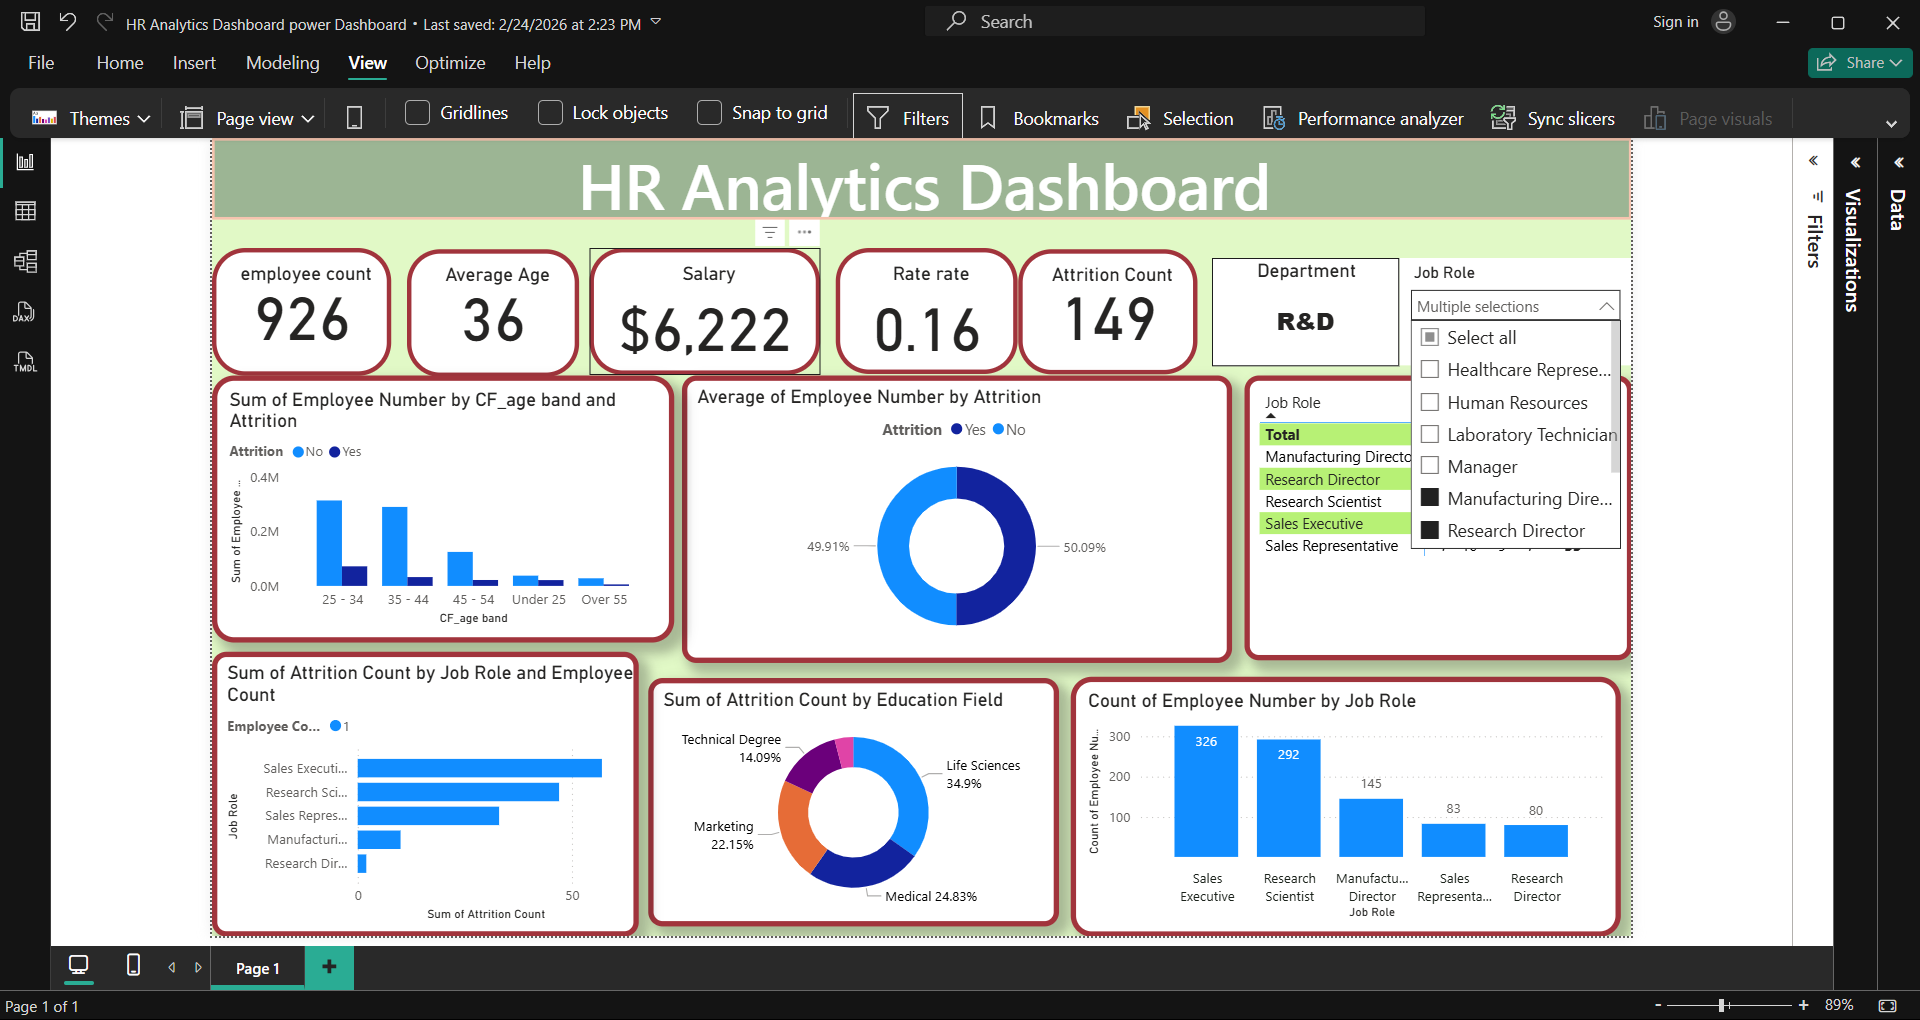

The dashboard page shown, as its layout file describes it:
{"tool":"powerbi","page":{"name":"Page 1","canvas":[1280,720],"ordinal":0},"visuals":[{"type":"card","title":"employee count","fields":{"Values":["Sum(HR data.Employee Count)"]},"box":[0,99,161.6,115.2],"z":0},{"type":"card","title":"Attrition Count","fields":{"Values":["HR data.Attrition Counts"]},"box":[726.6,100.2,161.6,112.7],"z":1000},{"type":"card","title":"Rate rate","fields":{"Values":["HR data.Attrition Rate"]},"box":[562.3,99.5,164.2,113.2],"z":2000},{"type":"card","title":"Average Age","fields":{"Values":["Avg(HR data.Age)"]},"box":[175.4,100.2,155.3,115.2],"z":3000},{"type":"card","title":"Salary","fields":{"Values":["Avg(HR data.Monthly Income)"]},"box":[340.8,99.5,207.7,114.4],"z":4000},{"type":"donutChart","fields":{"Category":["HR data.Education Field"],"Y":["Sum(HR data.Attrition Count)"]},"box":[393.1,486.4,370.7,223.9],"z":5000},{"type":"donutChart","fields":{"Category":["HR data.Attrition"],"Y":["Avg(HR data.Employee Number)"]},"box":[423.4,214.2,496.1,259.3],"z":6000},{"type":"clusteredColumnChart","fields":{"Category":["HR data.Job Role"],"Y":["CountNonNull(HR data.Employee Number)"]},"box":[774.2,486,496.1,234.3],"z":7000},{"type":"lineClusteredColumnComboChart","fields":{"Category":["HR data.CF_age band"],"Series":["HR data.Attrition"],"Y":["Sum(HR data.Employee Number)"]},"box":[0,214.2,417.1,240.5],"z":8000},{"type":"pivotTable","fields":{"Rows":["HR data.Job Role"],"Columns":["HR data.Job Satisfaction"],"Values":["HR data.Attrition Counts"]},"box":[930.8,214.2,349.5,256.8],"z":9000},{"type":"barChart","fields":{"Y":["Sum(HR data.Attrition Count)"],"Category":["HR data.Job Role"],"Series":["HR data.Employee Count"]},"box":[0,463.5,384.6,256.8],"z":10000},{"type":"textbox","title":"HR Analytics Dashboard","box":[0,0,1280,73.3],"z":11000},{"type":"slicer","fields":{"Values":["HR data.Job Role"]},"box":[1071.1,107.7,209.2,96.5],"z":12000},{"type":"card","title":"Department","fields":{"Values":["Min(HR data.Department)"]},"box":[901.9,107.7,169.1,97.7],"z":13000}]}

Visuals, with their boxes on the page's 1280x720 design canvas (x1, y1, x2, y2). These are canvas units, not pixel positions in the 1920x1020 screenshot, which may show the page scaled, cropped or inside an application window:
"employee count" card: [0, 99, 162, 214]
"Attrition Count" card: [727, 100, 888, 213]
"Rate rate" card: [562, 100, 726, 213]
"Average Age" card: [175, 100, 331, 215]
"Salary" card: [341, 100, 548, 214]
donutChart - HR data.Education Field x Sum(HR data.Attrition Count): [393, 486, 764, 710]
donutChart - HR data.Attrition x Avg(HR data.Employee Number): [423, 214, 920, 474]
clusteredColumnChart - HR data.Job Role x CountNonNull(HR data.Employee Number): [774, 486, 1270, 720]
lineClusteredColumnComboChart - HR data.CF_age band x HR data.Attrition: [0, 214, 417, 455]
pivotTable - HR data.Job Role x HR data.Job Satisfaction: [931, 214, 1280, 471]
barChart - Sum(HR data.Attrition Count) x HR data.Job Role: [0, 464, 385, 720]
"HR Analytics Dashboard" textbox: [0, 0, 1280, 73]
slicer - HR data.Job Role: [1071, 108, 1280, 204]
"Department" card: [902, 108, 1071, 205]
